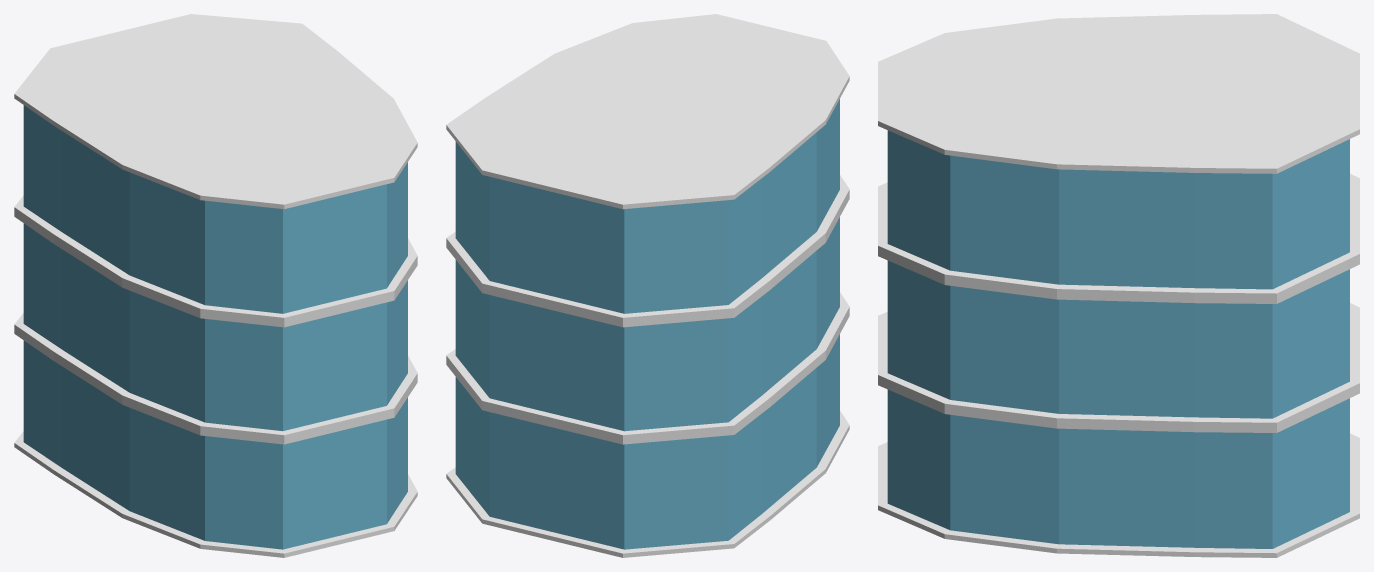
Rendered from building_1x1_10_f.glb.
3 views of the same model, side by side, from view 1: azimuth 30°, elevation 25°; view 2: azimuth 150°, elevation 25°; view 3: azimuth 270°, elevation 25° (orthographic). The views are drawn at different scales.
Visible parts, largest first — view 1: SecondFloor; view 2: SecondFloor; view 3: SecondFloor.
Boxes of the visible parts, x1,y1,x2,y2 form: SecondFloor: (14, 14, 417, 557); SecondFloor: (446, 14, 849, 557); SecondFloor: (878, 14, 1359, 557).
Size of the model in its own units: 1.37 by 1.6 by 1.8.
